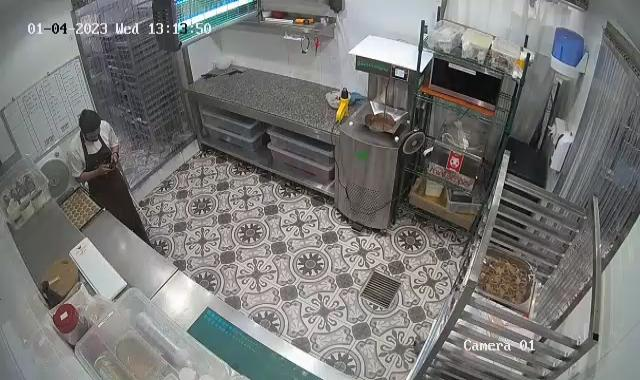no_hairnet: (78, 109, 105, 137)
